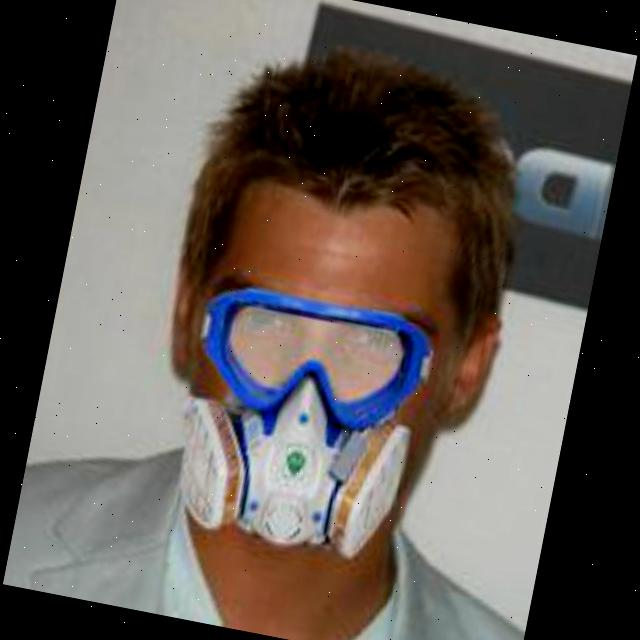suspicion: (155, 109, 488, 578)
